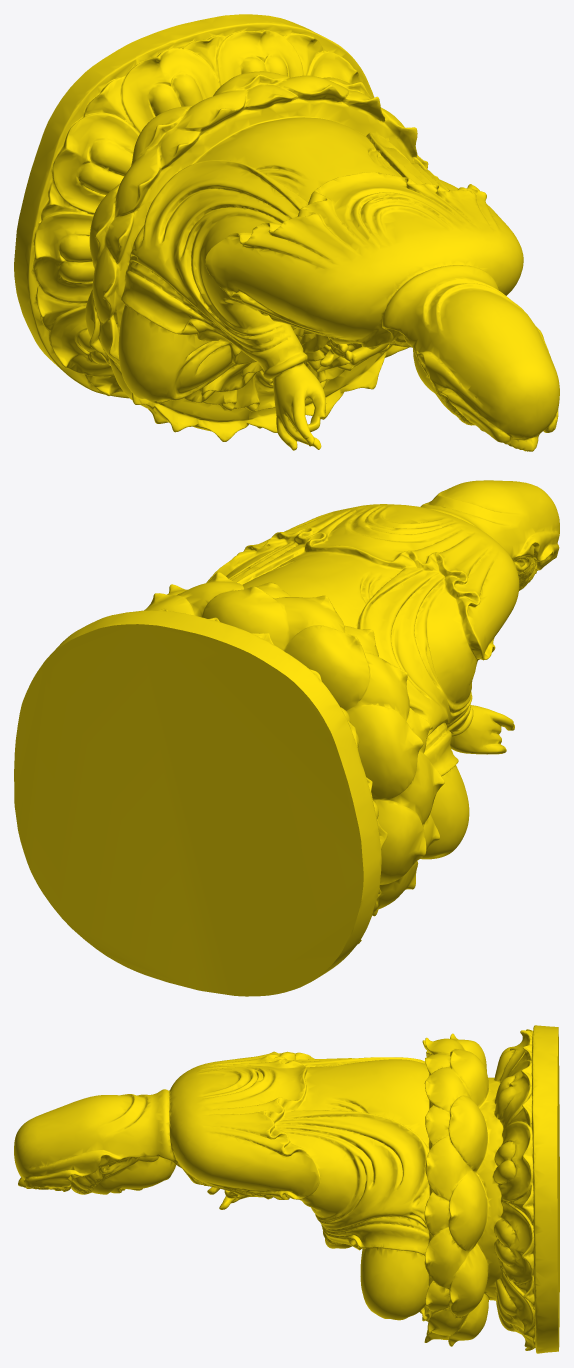
File: guanyin.glb
The picture shows the model from 3 angles, top to bottom: view 1: azimuth 30°, elevation 25°; view 2: azimuth 150°, elevation 25°; view 3: azimuth 270°, elevation 25°; orthographic projection. The views are drawn at different scales.
Bounding box in the file's own units: 0.1829 × 0.1775 × 0.31.
